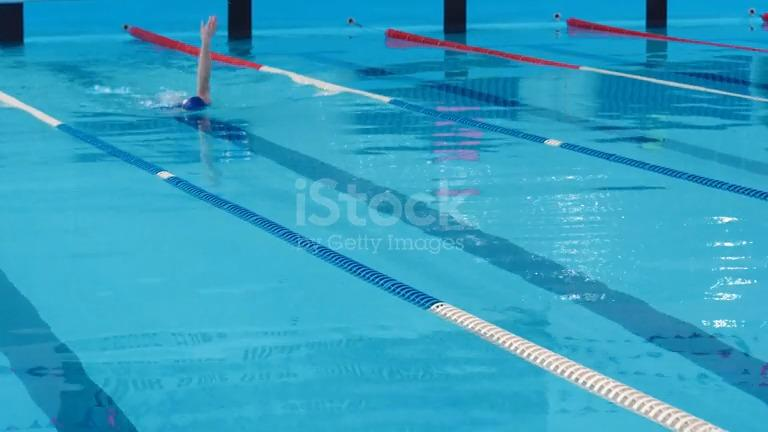Swimming: (29, 9, 328, 143)
